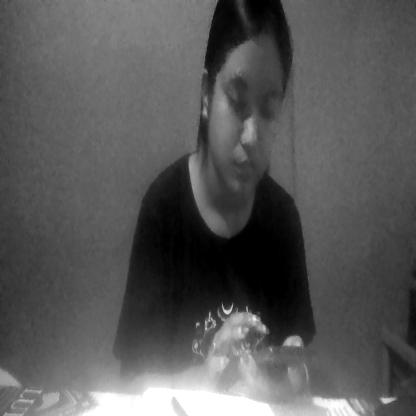Normal: (196, 6, 312, 236)
